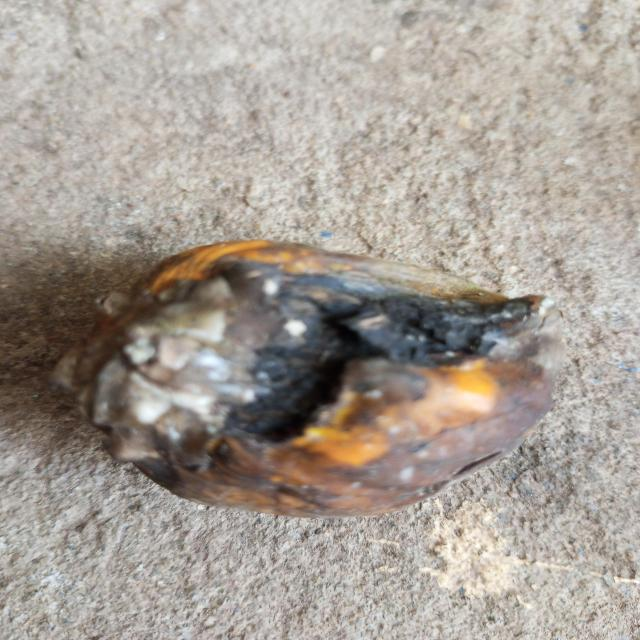damaged: (65, 240, 558, 521)
